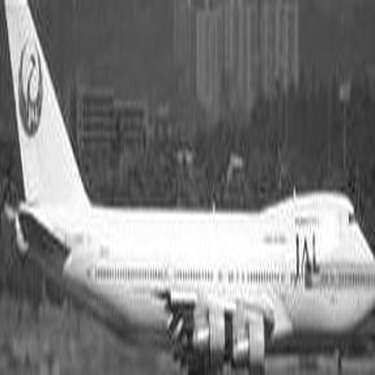airplane: (4, 5, 372, 369)
